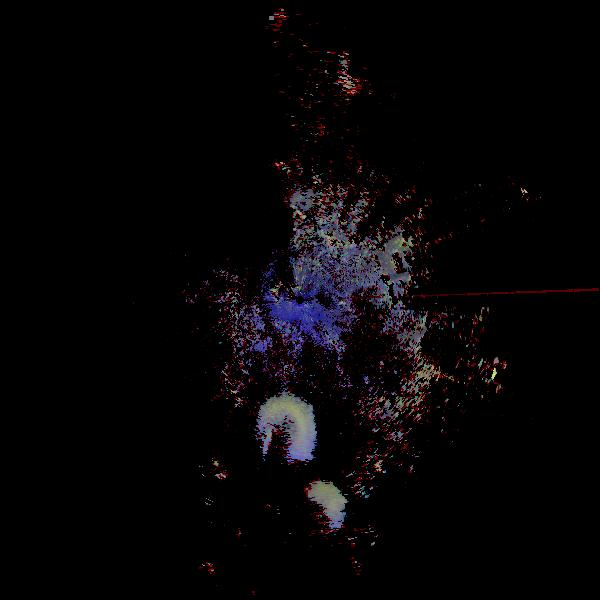roost: (251, 398, 317, 464), (293, 480, 347, 534)
